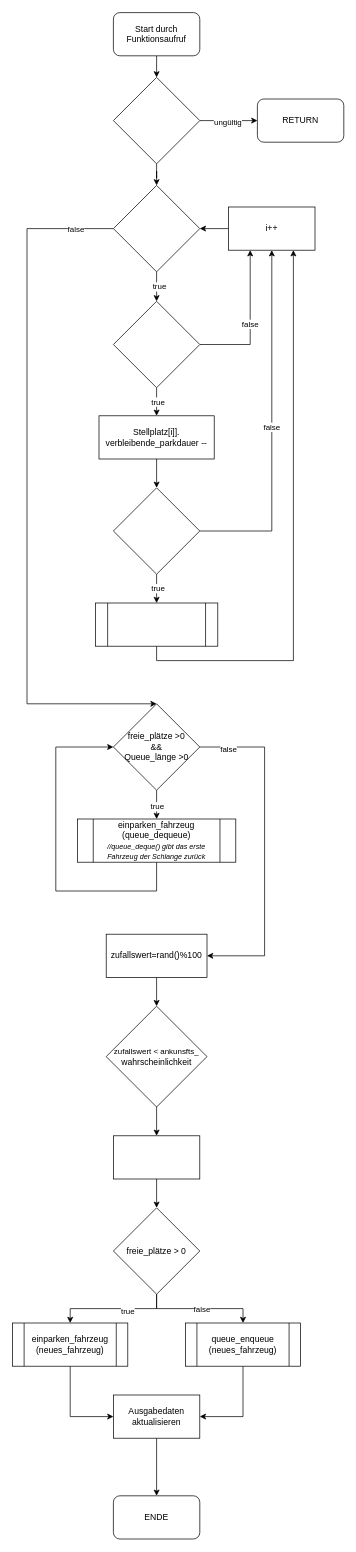
Image size: 356x1552. Some labels were removed from this diagram. Each missing label, with the centre of its shape:
"ausparken_fahrzeug() ausführen" belongs at [156,624].
"Basisdaten für neues_fahrzeug vorbereiten" belongs at [156,1157].
"Eingaben auf Gültigkeit prüfen" belongs at [156,120].
"i < maximale_ kapazitaet" belongs at [156,228].
"parkdauer <=0" belongs at [156,530].
"Stellplatz[i] belegt?" belongs at [156,344].
